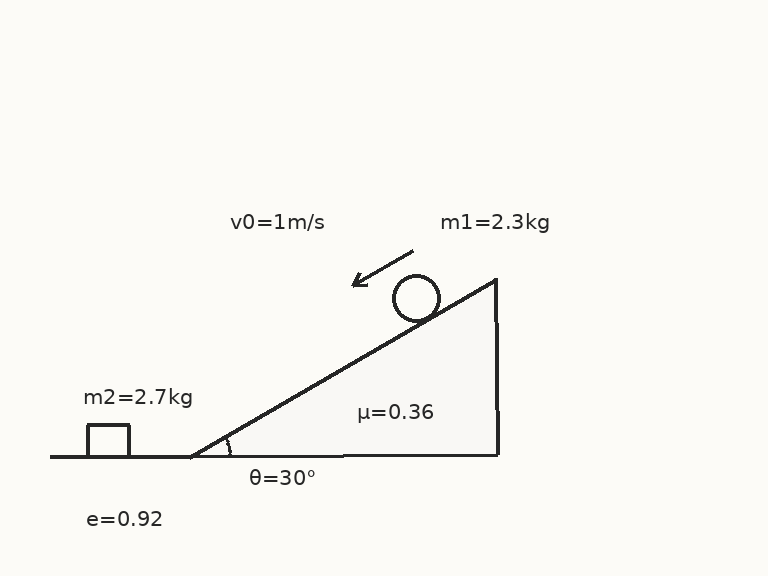ball: (390, 272, 442, 324)
block: (85, 423, 131, 458)
ramp: (188, 278, 498, 458)
